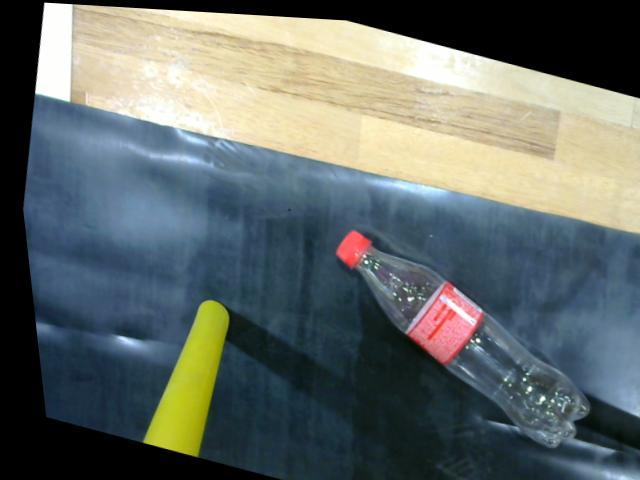bottle: (321, 223, 584, 452)
